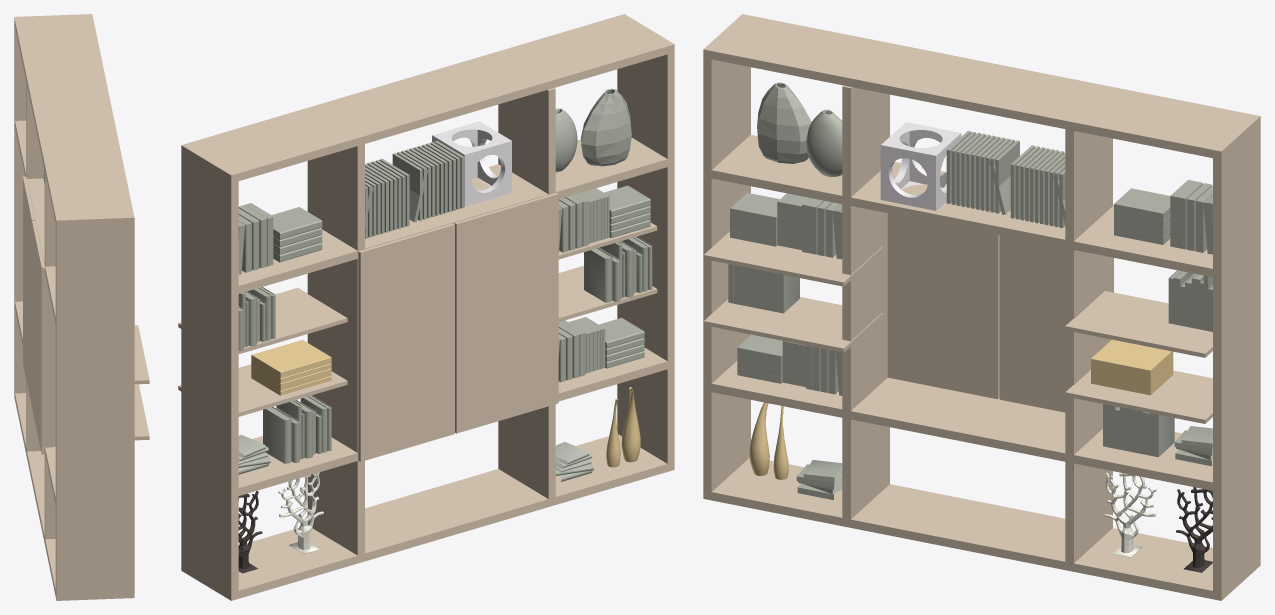
Rendered from bookshkaf.glb.
The picture shows the model from 3 angles, left to right: view 1: azimuth 30°, elevation 25°; view 2: azimuth 150°, elevation 25°; view 3: azimuth 270°, elevation 25°; orthographic projection. The views are drawn at different scales.
Parts seen in each view (by area): view 1: books_obj_03; view 2: books_obj_03; view 3: books_obj_03.
Part boxes in pixels (x1,y1,x2,y2): books_obj_03: (14, 14, 149, 600); books_obj_03: (178, 14, 674, 600); books_obj_03: (703, 14, 1260, 600).
Bounding box in the file's own units: 1.46 × 2.14 × 2.41.
Materials: 1 (1 with a texture image).
